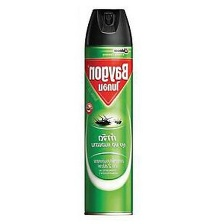aerosol_cans: (80, 5, 136, 217)
